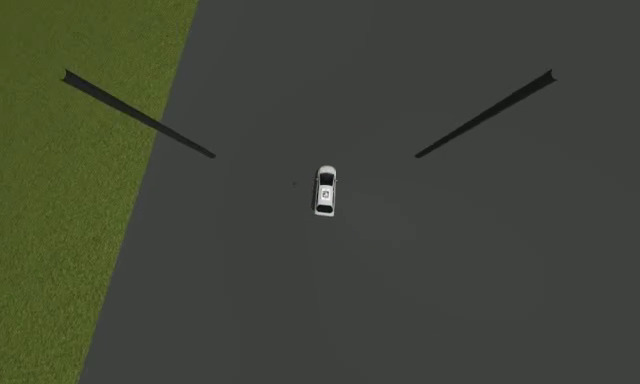Car: (313, 164, 340, 218)
